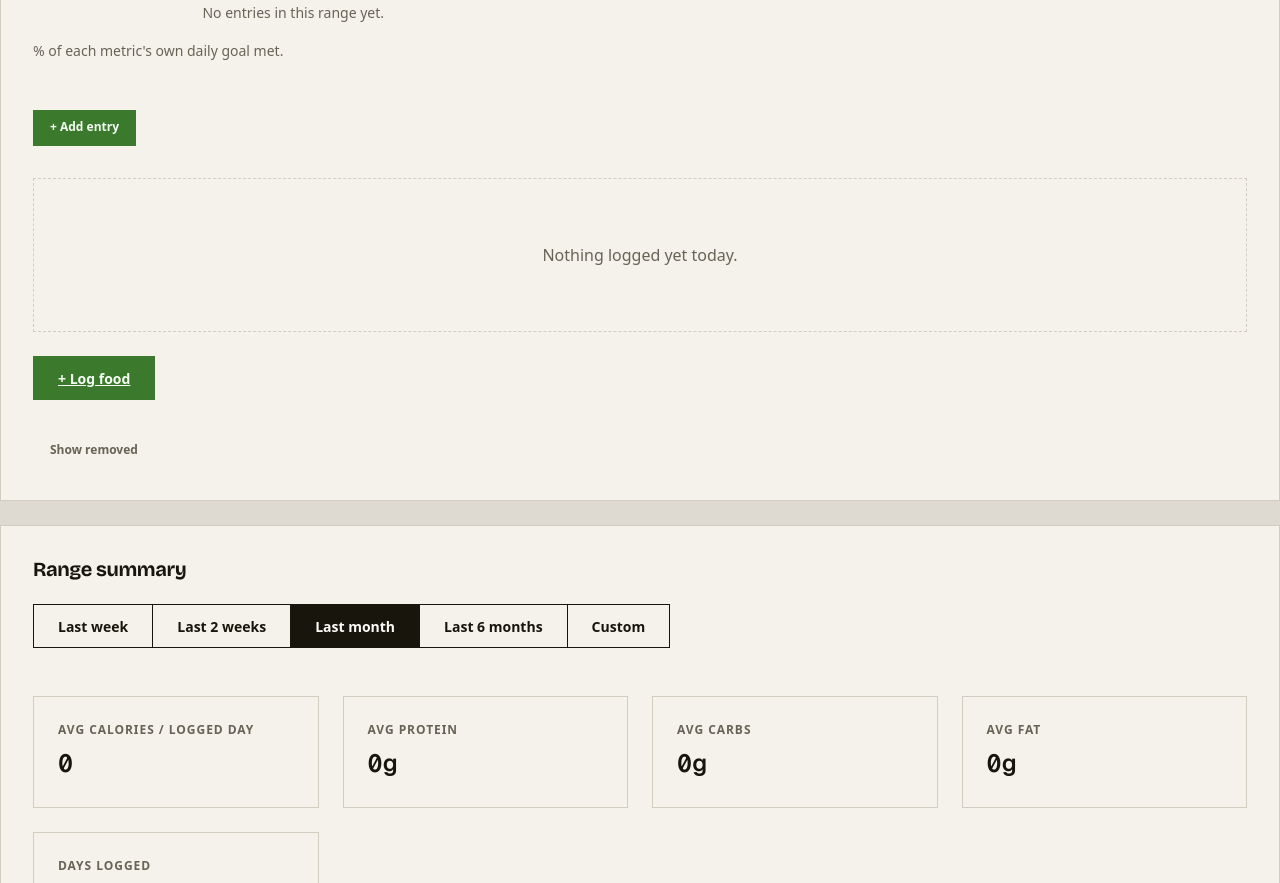
Test: History › shows nothing-removed empty state when toggled with no archived entries
(page scrolled)
expect the text "Nothing logged yet today." is shown: met, box [33,178,1247,332]
Click the button "Show removed": (94,450) [33,432,155,468]
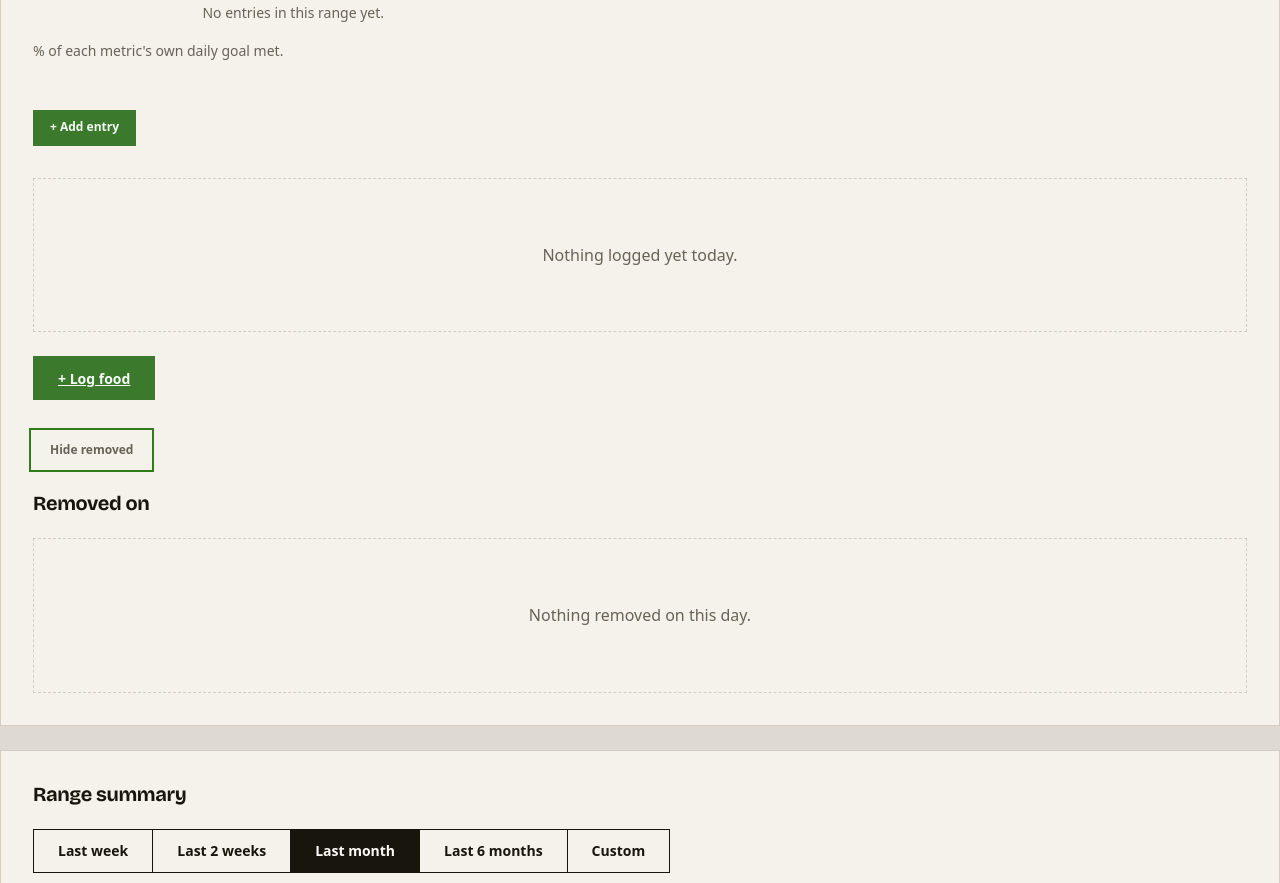
expect the text "Nothing removed on this day." is shown: met, box [33,538,1247,693]
Click the button "Hide removed": (92,450) [33,432,150,468]
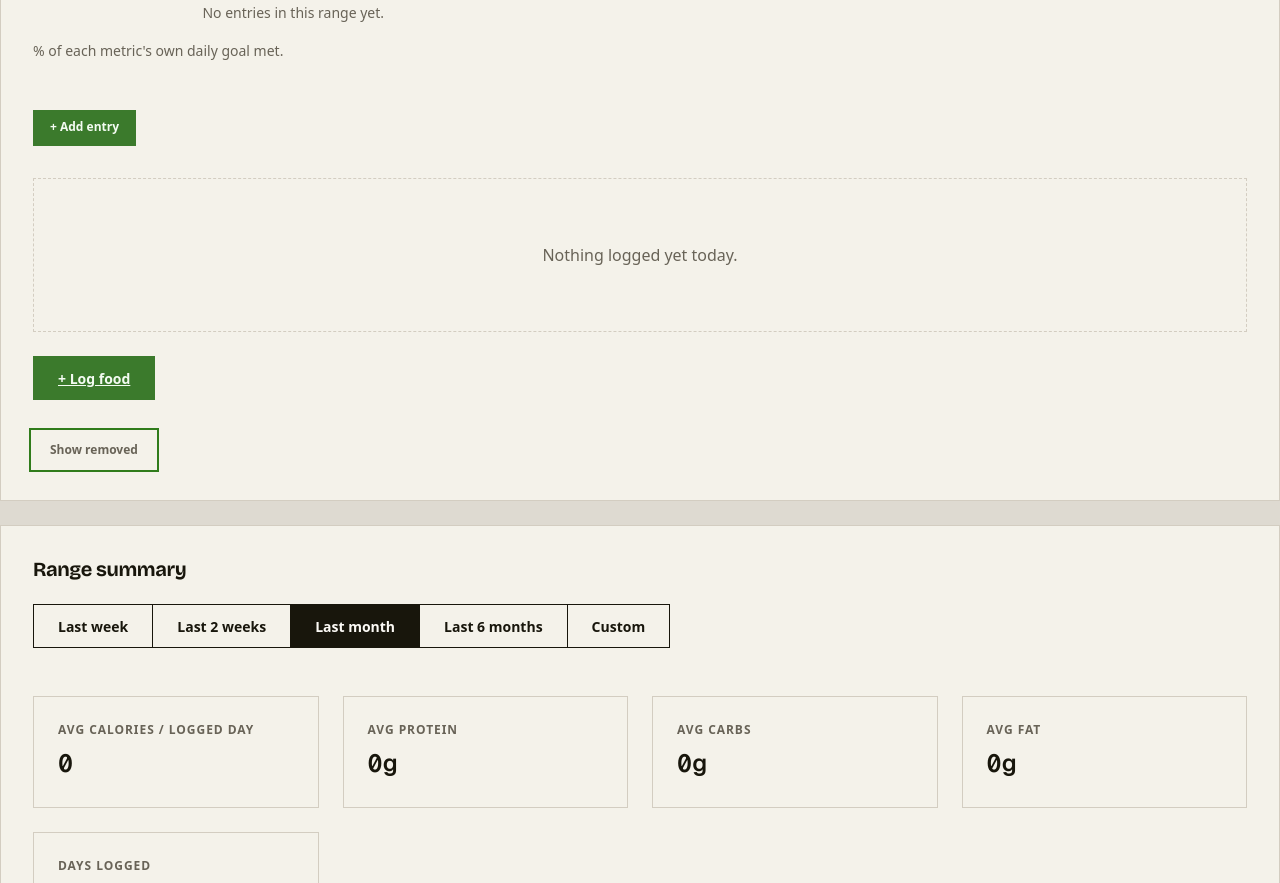
expect the text "Nothing removed on this day." is gone: met
